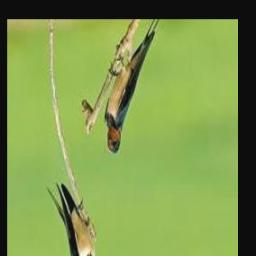Swallow: (105, 19, 160, 155), (48, 183, 96, 256)
